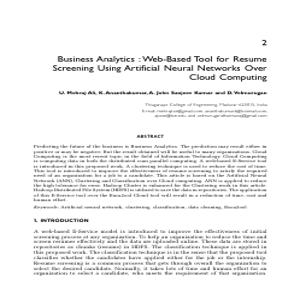text: (22, 132, 272, 285), (54, 54, 274, 123)
